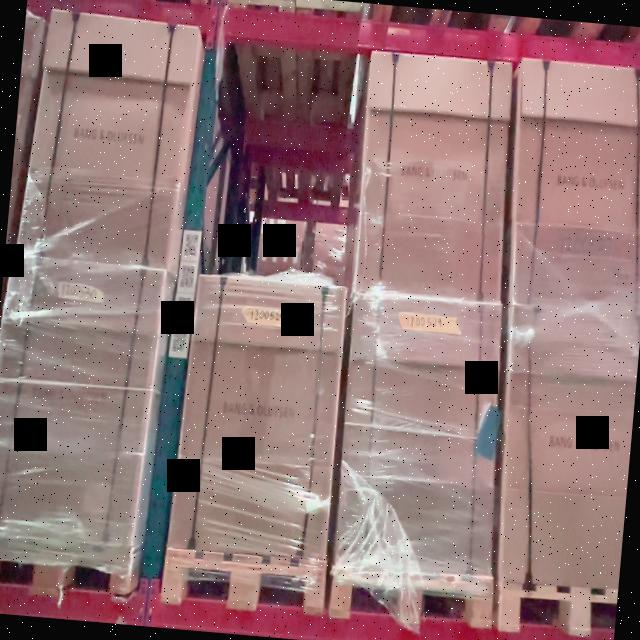box: (167, 275, 346, 559), (334, 295, 502, 579), (18, 9, 200, 268), (355, 51, 512, 303)
